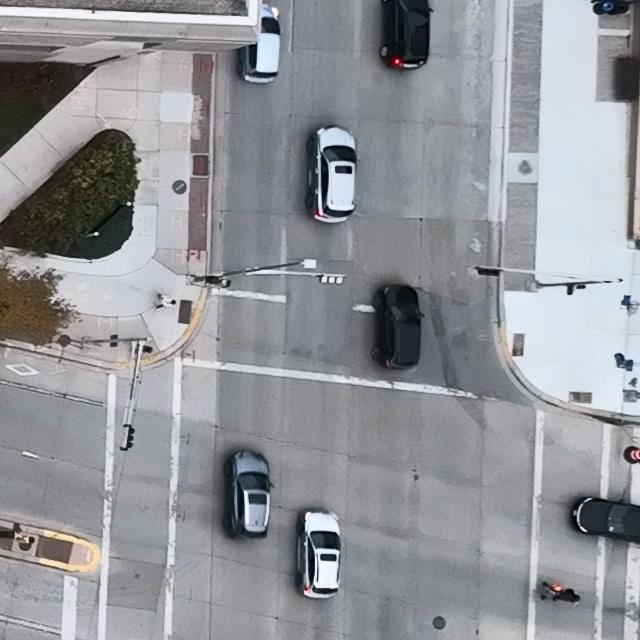car: (306, 125, 361, 224), (370, 284, 424, 370), (224, 450, 274, 540), (296, 508, 343, 599), (379, 0, 434, 71), (238, 4, 280, 83), (571, 496, 640, 543)
